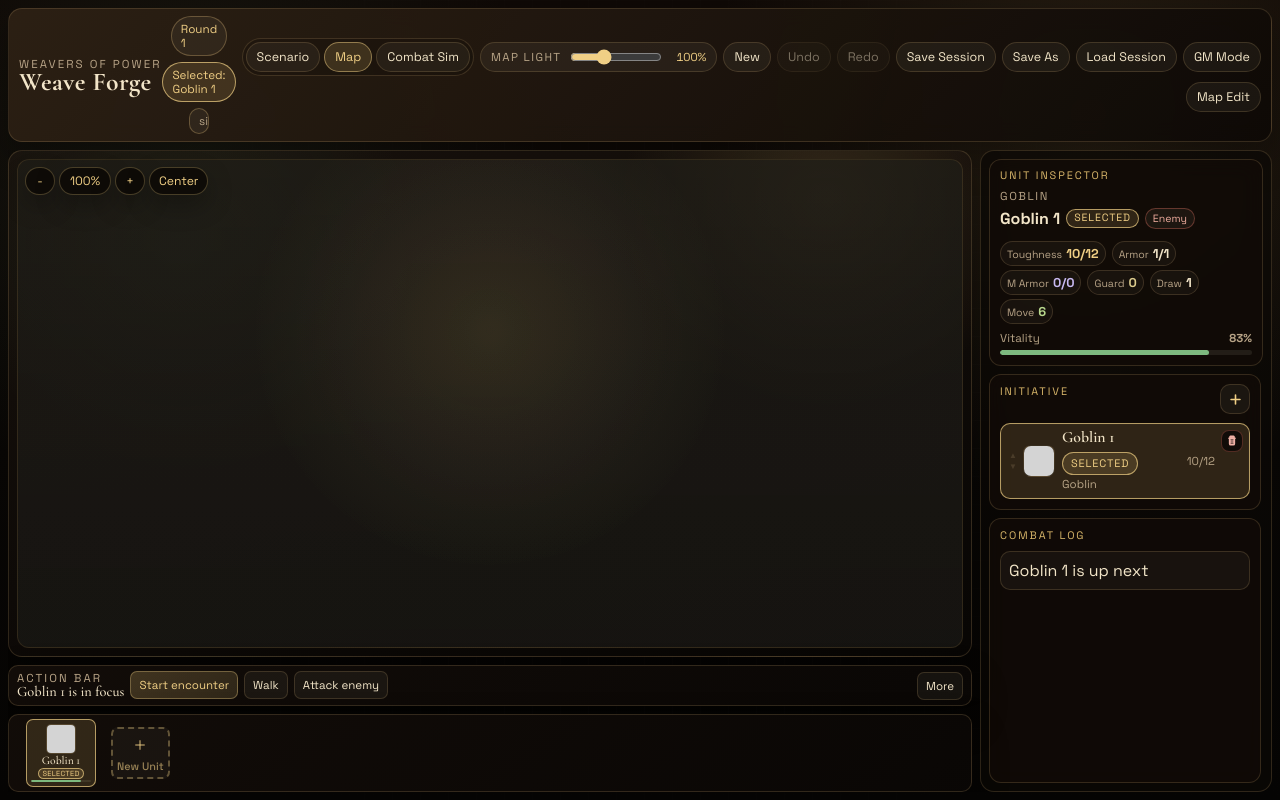
Test: App › deletes session saves from the load modal
This screenshot has width=1280, height=800.
Click the button "Load Session": (1126, 57) [1076,42,1177,72]
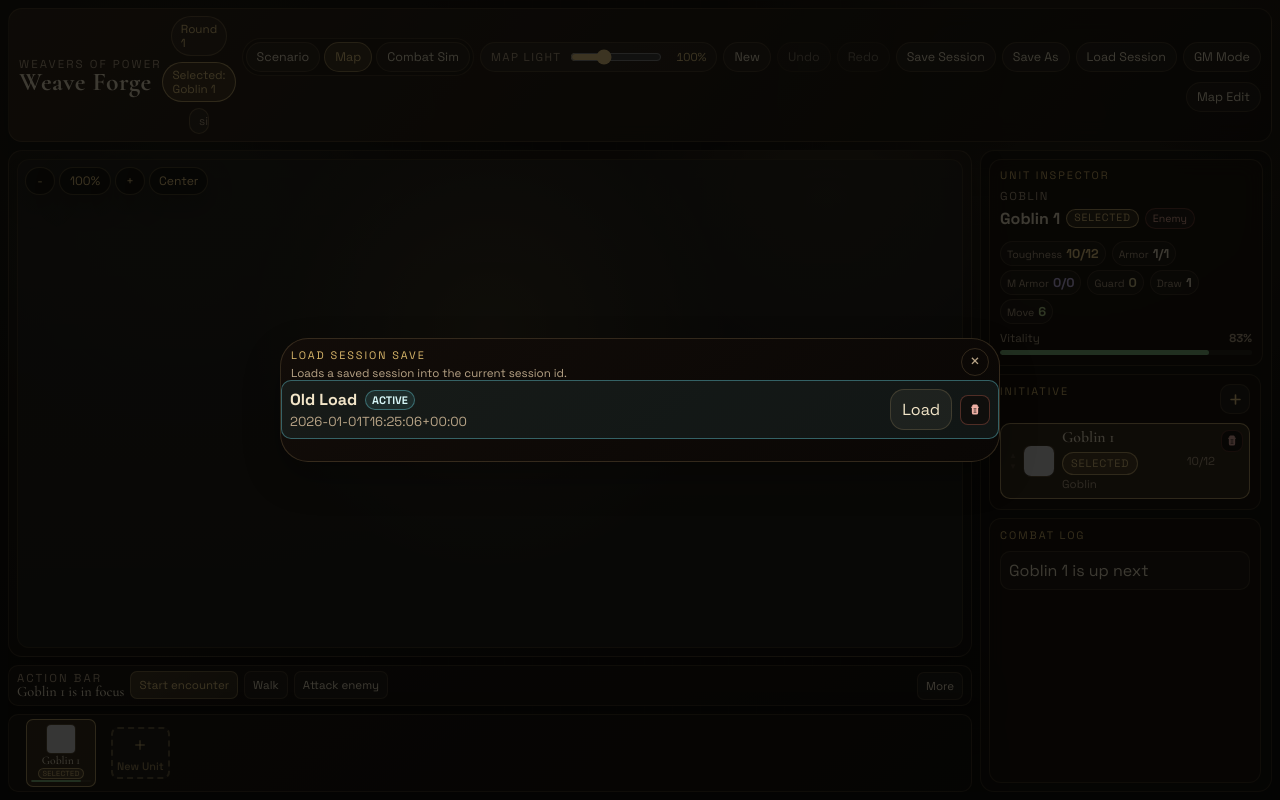
Check: the text "Old Load" is shown, box [290,389,357,410]
Check: the text "Active" is shown, box [365,390,415,410]
Click the button named "Delete save Old Load": (975, 410) [960,394,990,424]
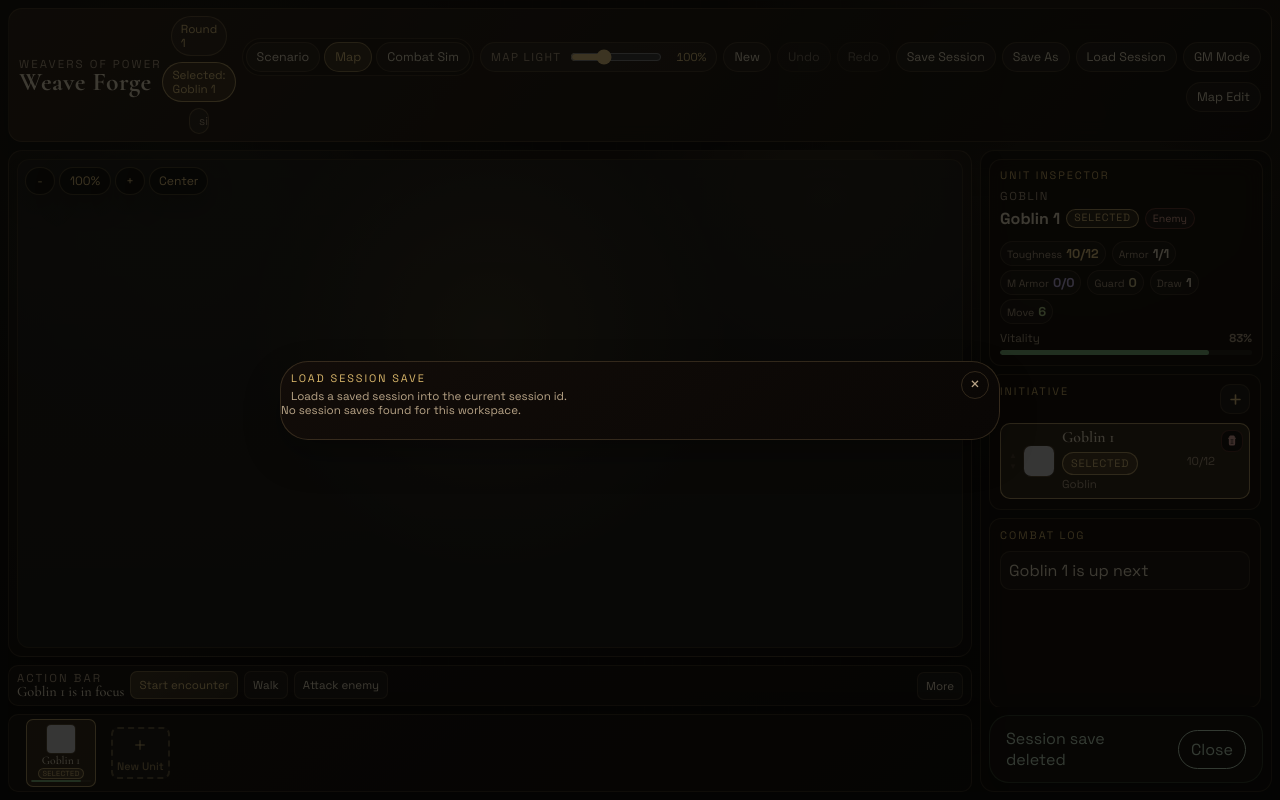
Check: the text "No session saves found for this workspace." is shown, box [281,402,521,416]
Check: the text "Session save deleted" is shown, box [1006,728,1105,770]
